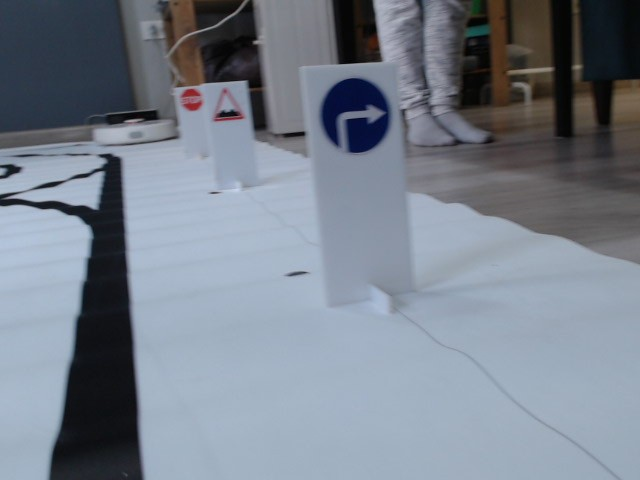Nerov: (214, 87, 246, 121)
Right: (318, 76, 391, 155)
Stop: (177, 88, 203, 112)
